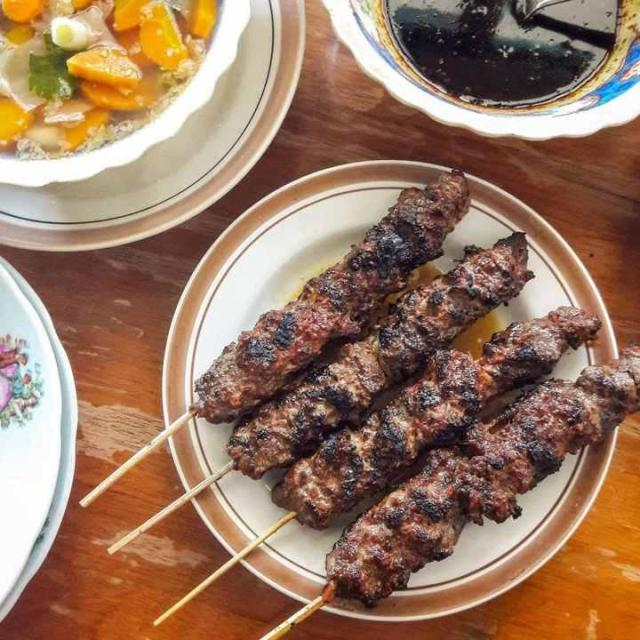Sate: (132, 196, 588, 618)
